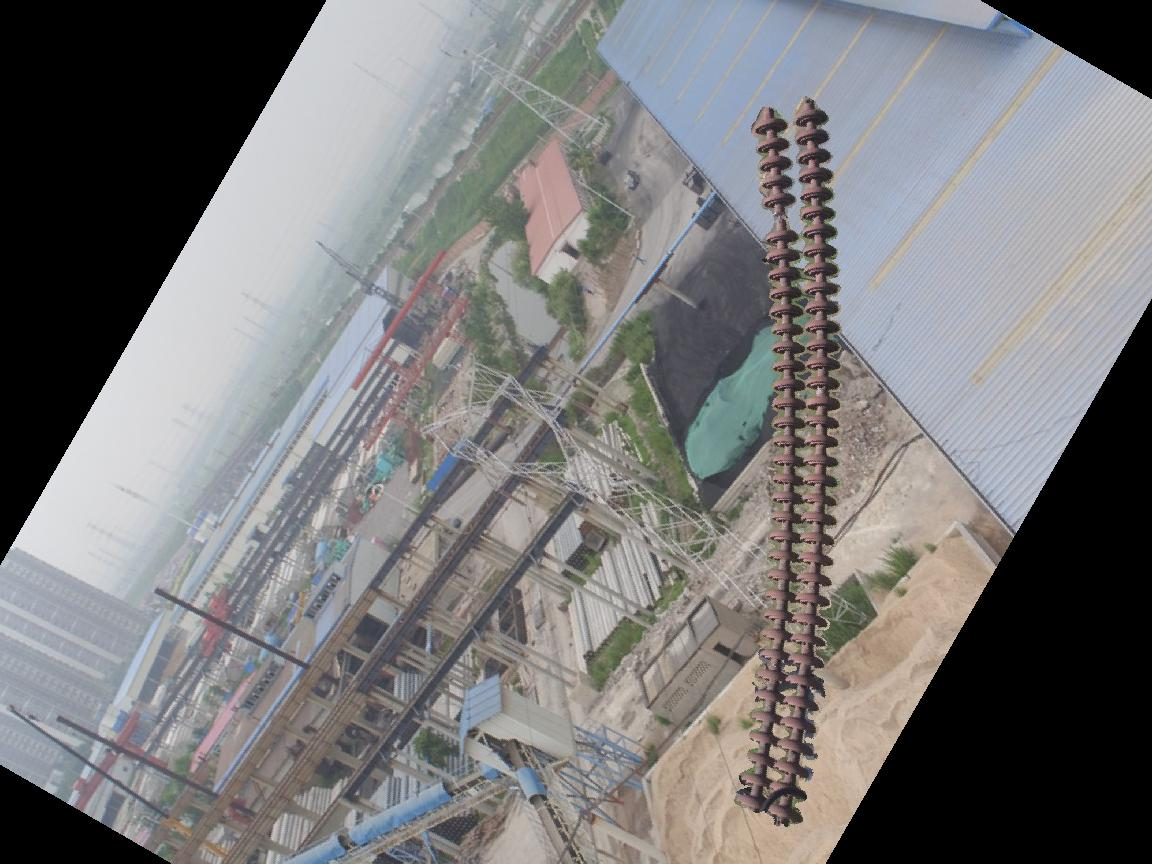insulator: (727, 94, 853, 830)
insulator_stringdrop: (757, 186, 802, 249)
